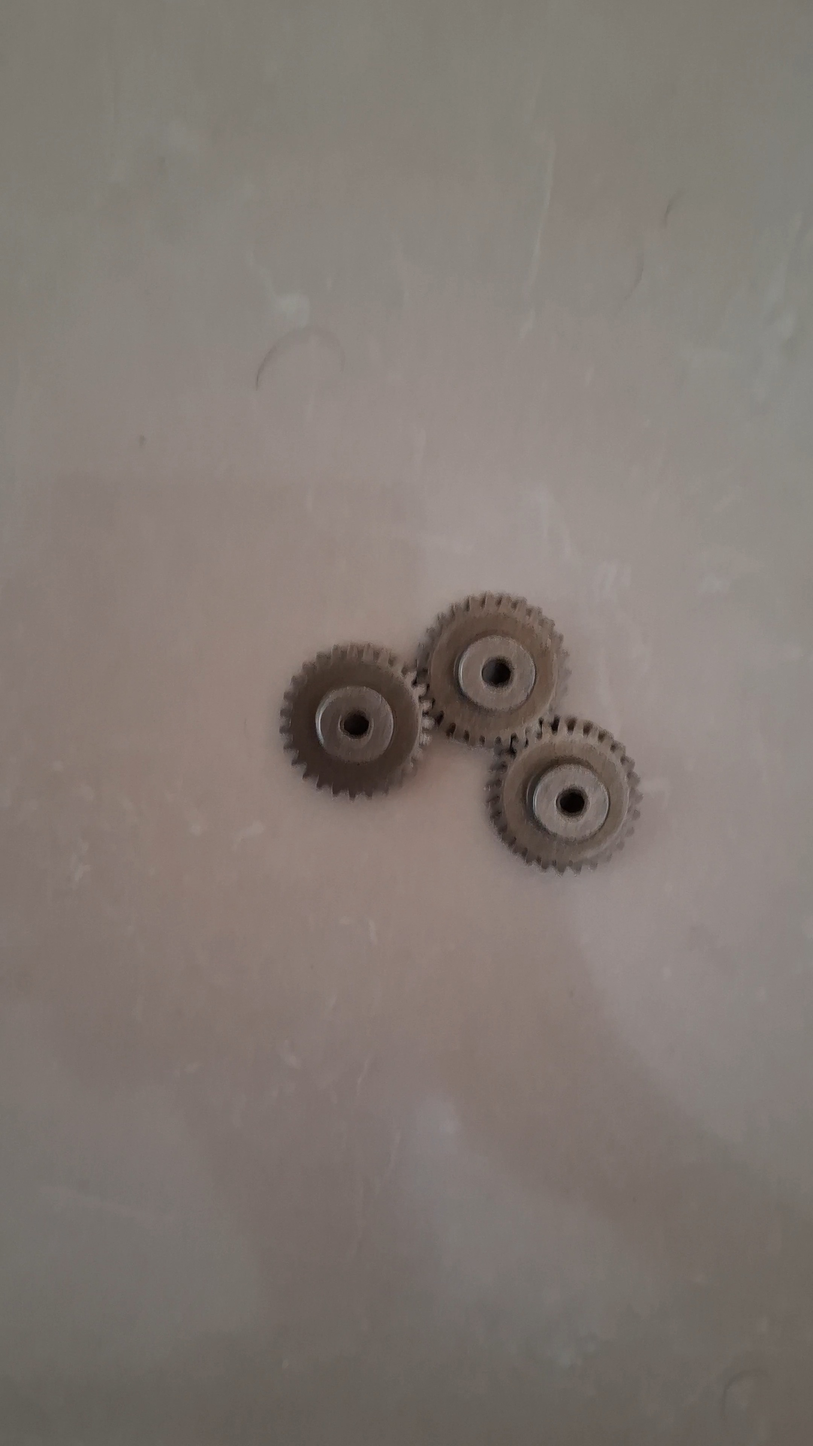spur gear: (487, 717, 640, 872), (280, 644, 432, 797), (418, 593, 566, 746)
